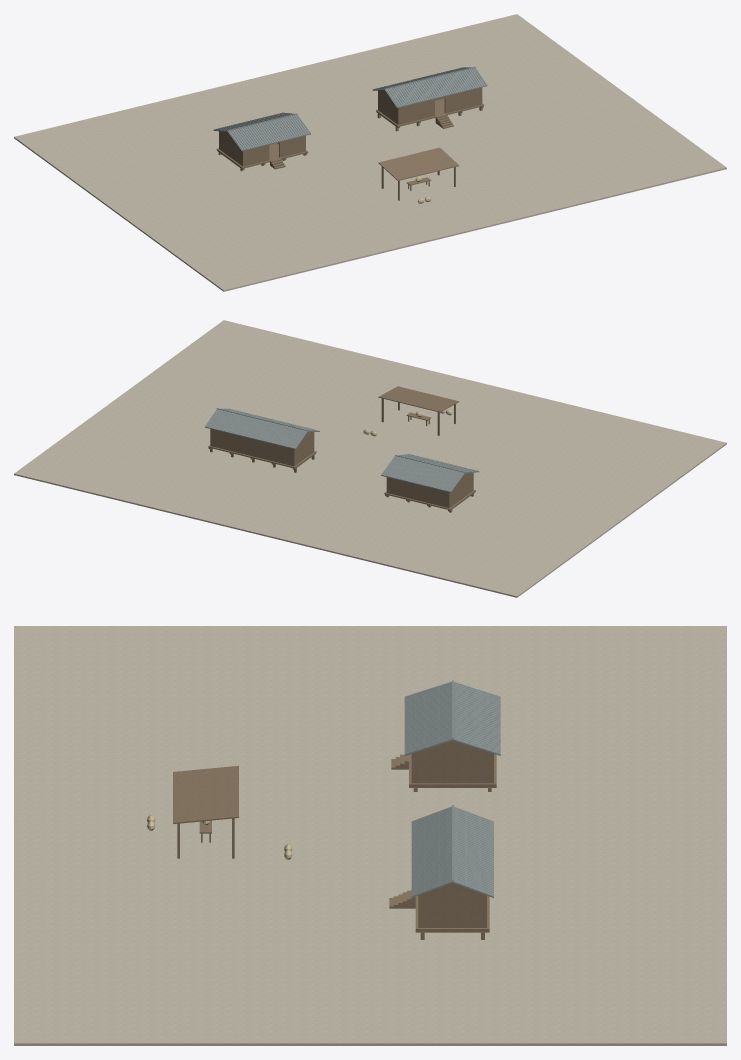
Rendered from storage-group-organized-local-C2.glb.
3 renders of one model, top to bottom at view 1: azimuth 30°, elevation 25°; view 2: azimuth 150°, elevation 25°; view 3: azimuth 270°, elevation 25°, orthographic. The views are drawn at different scales.
Parts seen in each view (by area): view 1: sample_ground, B_roofbed_-1, receiving_cover, A_roofbed_-1, B_frontwall_1, B_frontwall_-1, A_frontwall_-1; view 2: sample_ground, B_roofbed_1, B_backwall, A_roofbed_1, A_backwall, receiving_cover; view 3: sample_ground, receiving_cover, A_sidewall_1, B_roofbed_1, B_roofbed_-1, B_sidewall_1, A_roofbed_-1, A_roofbed_1.
Boxes of the visible parts, left/top/right/bottom form: sample_ground: left=14, top=14, right=726, bottom=291; B_roofbed_-1: left=384, top=67, right=487, bottom=107; receiving_cover: left=378, top=147, right=459, bottom=180; A_roofbed_-1: left=227, top=114, right=311, bottom=151; B_frontwall_1: left=444, top=87, right=482, bottom=113; B_frontwall_-1: left=397, top=99, right=434, bottom=124; A_frontwall_-1: left=242, top=145, right=269, bottom=166; sample_ground: left=14, top=320, right=726, bottom=597; B_roofbed_1: left=205, top=409, right=307, bottom=449; B_backwall: left=210, top=429, right=294, bottom=466; A_roofbed_1: left=381, top=456, right=464, bottom=492; A_backwall: left=386, top=477, right=450, bottom=507; receiving_cover: left=378, top=386, right=459, bottom=412; sample_ground: left=14, top=626, right=726, bottom=1045; receiving_cover: left=173, top=765, right=238, bottom=824; A_sidewall_1: left=414, top=754, right=490, bottom=783; B_roofbed_1: left=452, top=808, right=493, bottom=897; B_roofbed_-1: left=411, top=807, right=452, bottom=897; B_sidewall_1: left=421, top=896, right=484, bottom=927; A_roofbed_-1: left=404, top=683, right=452, bottom=755; A_roofbed_1: left=452, top=683, right=500, bottom=755.
Size of the model in its own units: 72 by 5.15 by 52.
4 materials, 3 textured.
